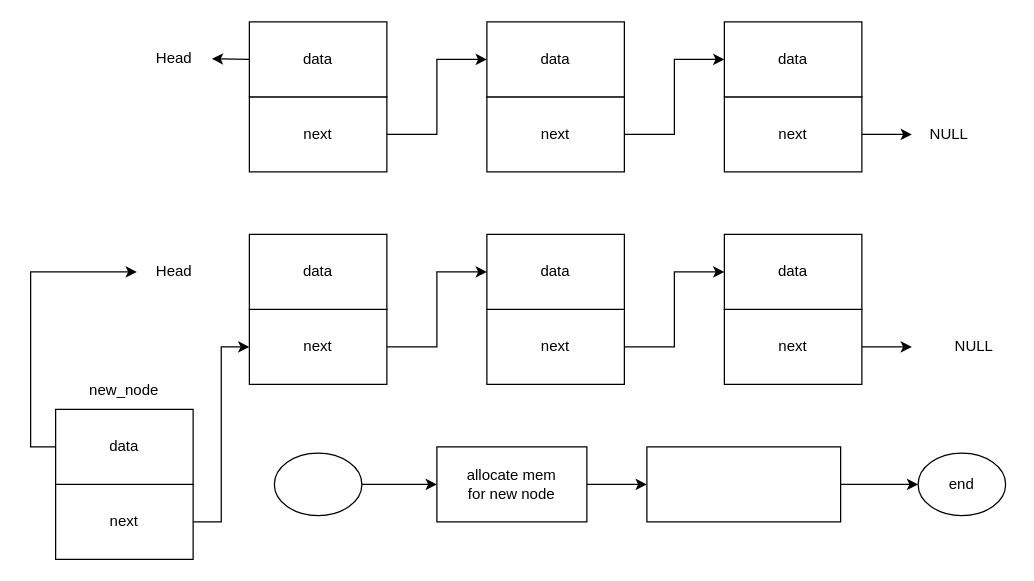
This 1034x581 diagram has some shape labels left out. The shapes that lost their labels are listed below. From the top down, each one's centre as x and y in pixels, then its label:
At [317,484]: "start".
At [743,484]: "new_node->next = head head = new_node".
